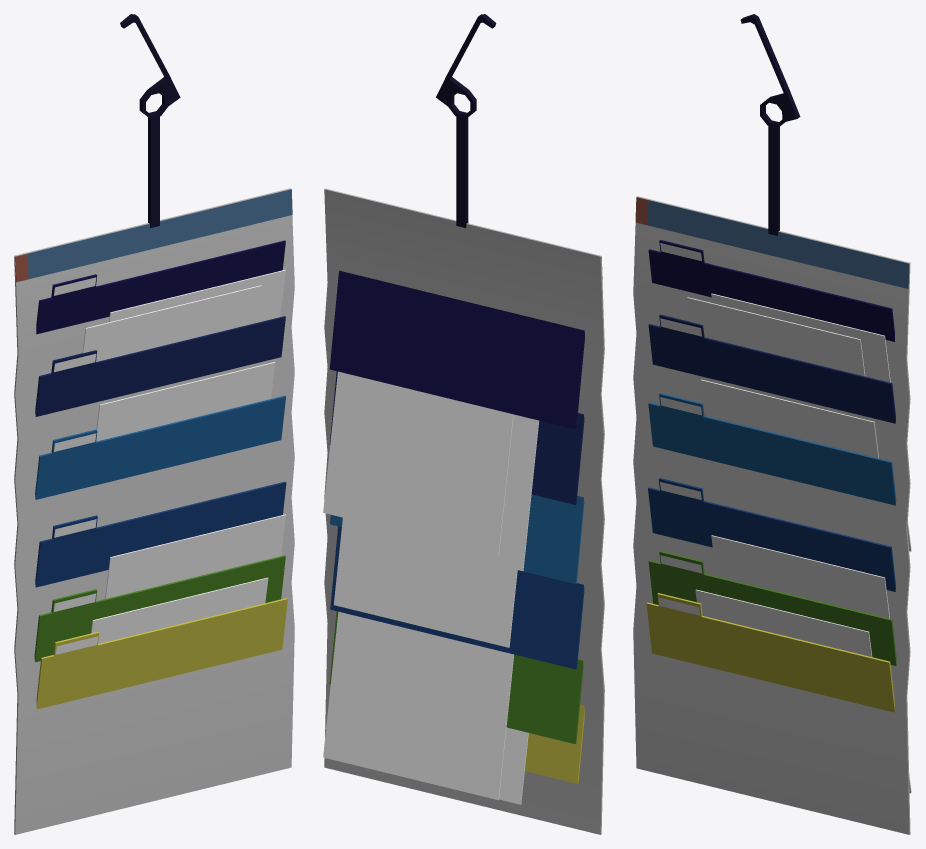
The model's file is LC_3178_filing_cabinett_b_LOD2.fbx.
3 views of the same model, side by side, from view 1: azimuth 30°, elevation 25°; view 2: azimuth 150°, elevation 25°; view 3: azimuth 330°, elevation 25° (orthographic).
Visible parts, largest first — view 1: LC_3178_fc_b_LOD2; view 2: LC_3178_fc_b_LOD2; view 3: LC_3178_fc_b_LOD2.
Boxes of the visible parts, x1,y1,x2,y2 form: LC_3178_fc_b_LOD2: (14,14,294,834); LC_3178_fc_b_LOD2: (323,14,604,834); LC_3178_fc_b_LOD2: (633,14,911,834).
Bounding box in the file's own units: 30 × 82.03 × 5.18.
1 material, 1 textured.
